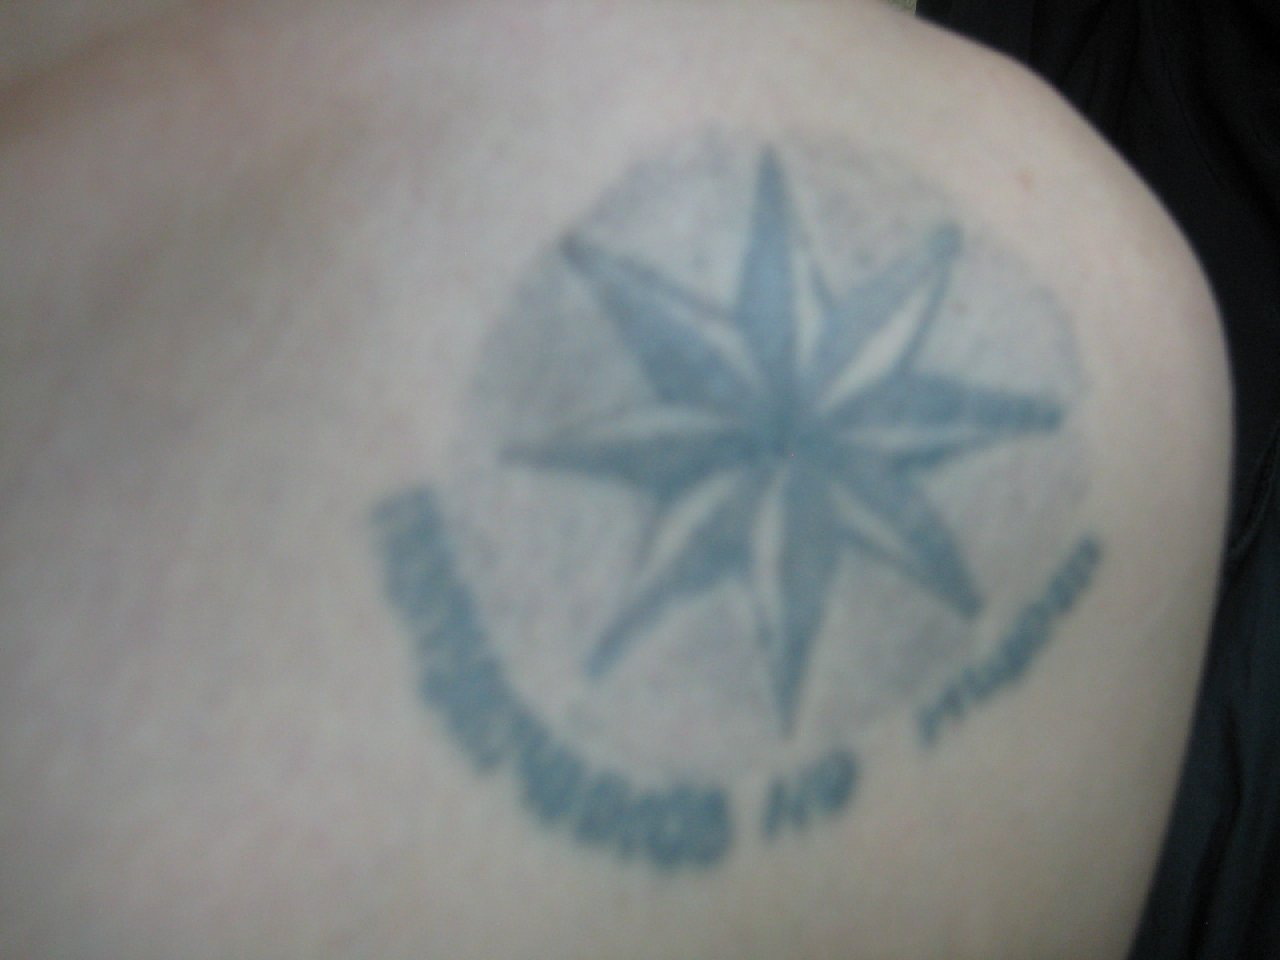tatu4_zvezda: (488, 143, 1071, 747)
